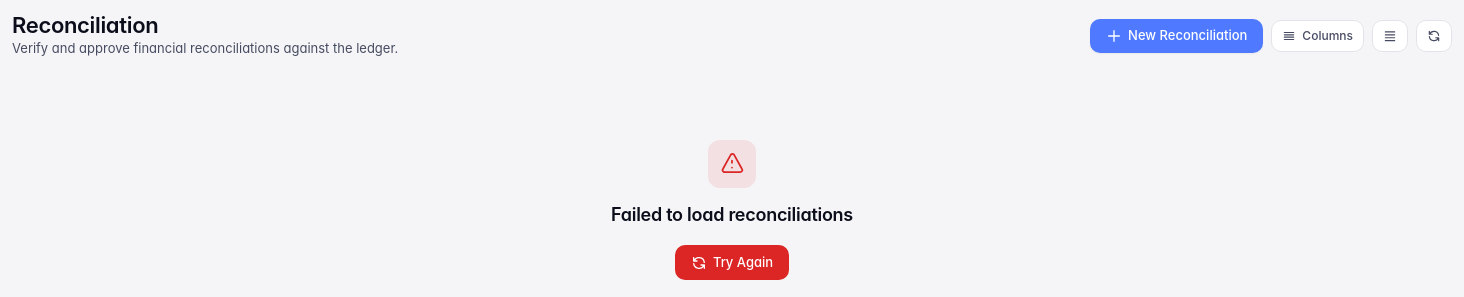
it: Reconciliation workspace (P13) › shows an actionable error state and recovers on retry
Expected: the heading "Failed to load reconciliations" is shown, [611, 204, 853, 225]
Step 1. Click the button "Try Again" → [732, 263], box [675, 245, 789, 280]
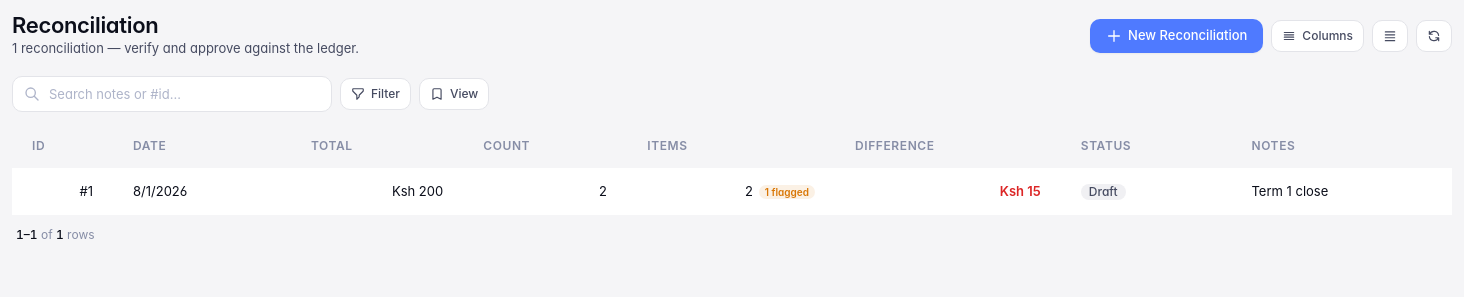
Expected: the text "#1" is shown, [12, 168, 113, 215]
